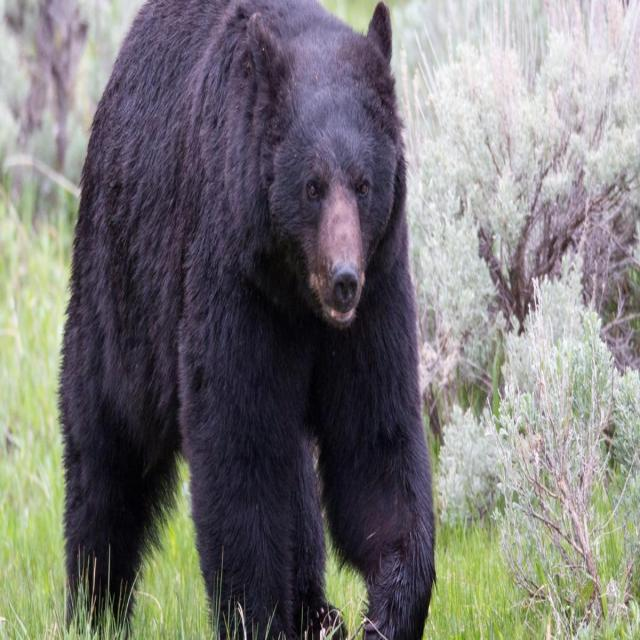Bear: (58, 0, 437, 640)
